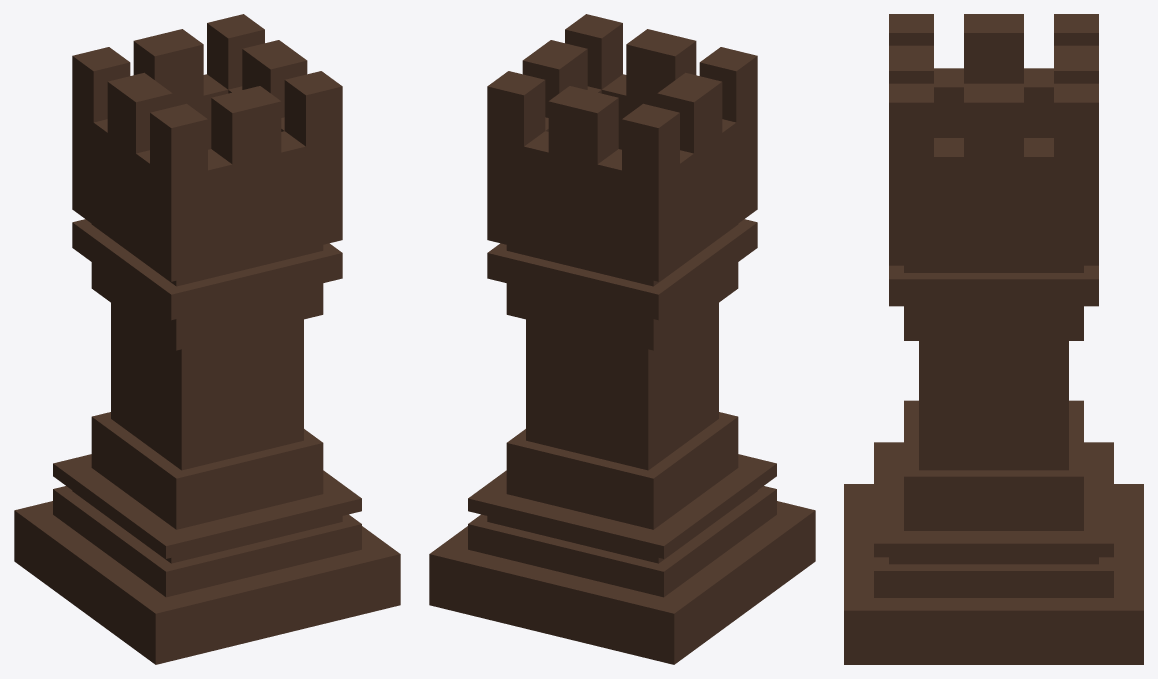
The model's file is black_rook.glb.
The picture shows the model from 3 angles, left to right: view 1: azimuth 30°, elevation 25°; view 2: azimuth 150°, elevation 25°; view 3: azimuth 270°, elevation 25°; orthographic projection. The views are drawn at different scales.
Parts seen in each view (by area): view 1: Untitled; view 2: Untitled; view 3: Untitled.
Boxes of the visible parts, x1=… form: Untitled: x1=14, y1=14, x2=400, y2=664; Untitled: x1=429, y1=14, x2=815, y2=664; Untitled: x1=844, y1=14, x2=1143, y2=664.
Size of the model in its own units: 0.6 by 1.2 by 0.6.
Materials: 1 (1 with a texture image).
